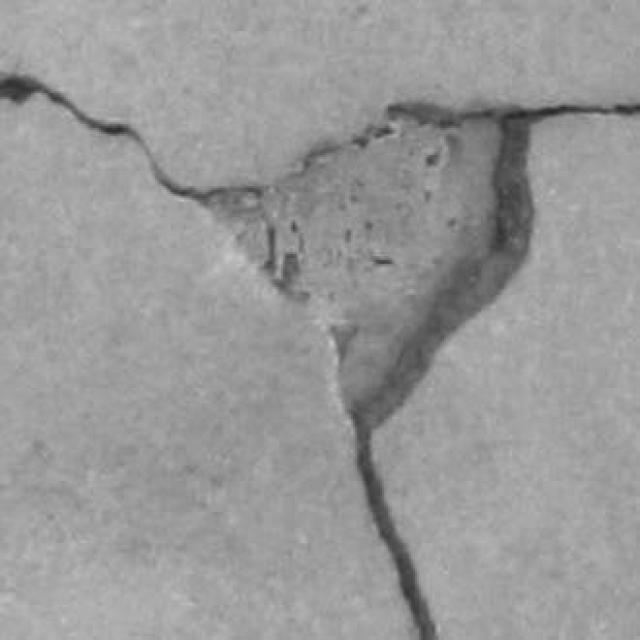crack: (350, 101, 639, 639), (350, 113, 533, 639), (0, 72, 263, 205), (0, 74, 217, 205), (357, 429, 438, 639)
